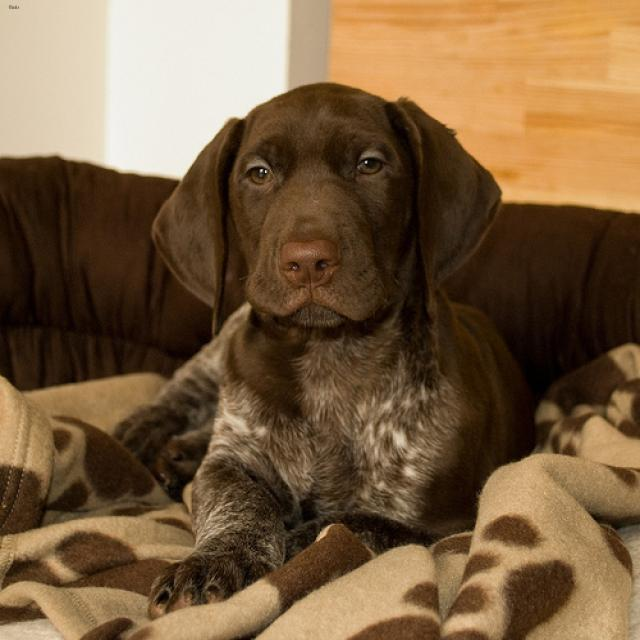dog-german_shorthaired: (99, 71, 552, 628)
